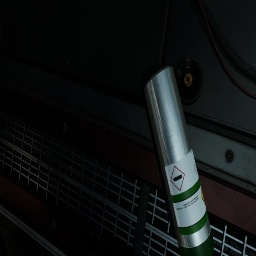0: (144, 66, 214, 256)
NitrogenTank ,: (0, 234, 8, 256)
